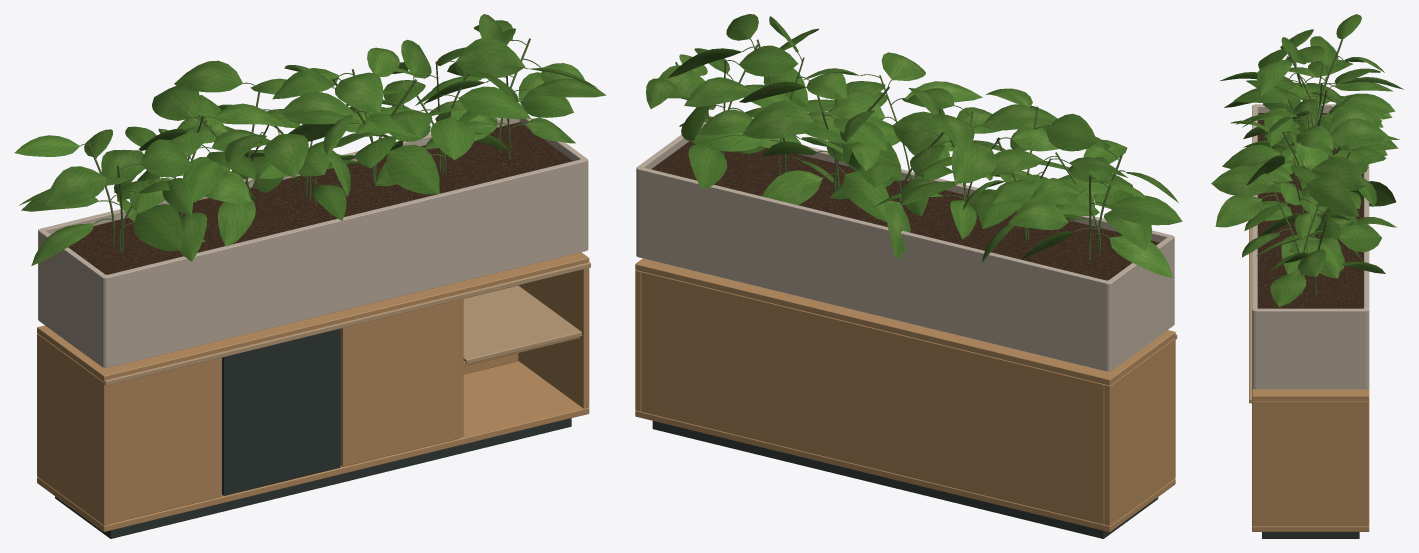
The model's file is botanicalDivider-13.glb.
3 views of the same model, side by side, from view 1: azimuth 30°, elevation 25°; view 2: azimuth 150°, elevation 25°; view 3: azimuth 270°, elevation 25° (orthographic). The views are drawn at different scales.
Parts seen in each view (by area): view 1: Planter_pothos_leaves, Planter_oiled_oak, StoragePlanter_Door (×3), StoragePlanter_Side (×2), Planter_loose_soil, StoragePlanter_Bottom, StoragePlanter_Top, StoragePlanter_OpenShelf, StoragePlanter_Plinth, Planter_pothos_stems, StoragePlanter_AccentRail, Planter_matte_accent (+1 smaller); view 2: StoragePlanter_Back, Planter_pothos_leaves, Planter_oiled_oak, Planter_loose_soil, StoragePlanter_Side (×2), StoragePlanter_Top, StoragePlanter_Plinth, Planter_matte_accent, StoragePlanter_Bottom, Planter_pothos_stems; view 3: Planter_pothos_leaves, StoragePlanter_Side, Planter_oiled_oak, Planter_loose_soil, Planter_pothos_stems, StoragePlanter_Top, StoragePlanter_Bottom, StoragePlanter_Plinth, StoragePlanter_AccentRail.
Part boxes in pixels (<box>): Planter_pothos_leaves: <box>14,14,606,265</box>; Planter_oiled_oak: <box>38,117,588,367</box>; StoragePlanter_Door (×3): <box>105,299,459,523</box>; StoragePlanter_Side (×2): <box>37,268,589,525</box>; Planter_loose_soil: <box>68,122,572,274</box>; StoragePlanter_Bottom: <box>37,361,589,531</box>; StoragePlanter_Top: <box>37,252,589,381</box>; StoragePlanter_OpenShelf: <box>463,285,581,363</box>; StoragePlanter_Plinth: <box>55,418,571,538</box>; Planter_pothos_stems: <box>80,38,541,252</box>; StoragePlanter_AccentRail: <box>104,262,590,385</box>; Planter_matte_accent: <box>113,225,577,340</box>; StoragePlanter_Back: <box>641,271,1104,524</box>; Planter_pothos_leaves: <box>646,14,1182,277</box>; Planter_oiled_oak: <box>636,122,1174,371</box>; Planter_loose_soil: <box>651,140,1159,280</box>; StoragePlanter_Side (×2): <box>635,270,1175,525</box>; StoragePlanter_Top: <box>635,258,1175,385</box>; StoragePlanter_Plinth: <box>652,421,1158,538</box>; Planter_matte_accent: <box>645,240,1102,352</box>; StoragePlanter_Bottom: <box>635,410,1175,532</box>; Planter_pothos_stems: <box>675,39,1125,259</box>; Planter_pothos_leaves: <box>1211,14,1403,307</box>; StoragePlanter_Side: <box>1252,401,1369,526</box>; Planter_oiled_oak: <box>1252,104,1369,389</box>; Planter_loose_soil: <box>1258,113,1363,308</box>; Planter_pothos_stems: <box>1262,39,1350,295</box>; StoragePlanter_Top: <box>1252,388,1369,401</box>; StoragePlanter_Bottom: <box>1252,526,1369,531</box>; StoragePlanter_Plinth: <box>1262,532,1359,538</box>; StoragePlanter_AccentRail: <box>1249,228,1251,403</box>.
Size of the model in its own units: 2.26 by 1.58 by 0.7924.
Materials: 10 (2 with a texture image).
